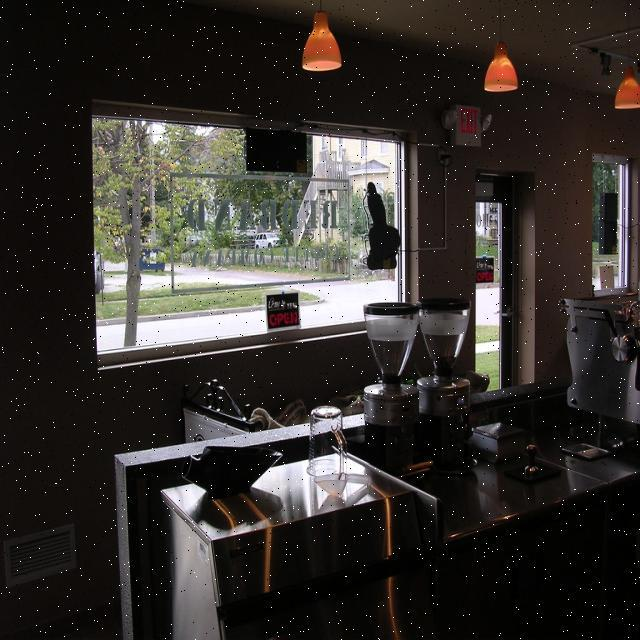Coffee-Machine: (334, 283, 430, 483), (422, 277, 504, 477)
